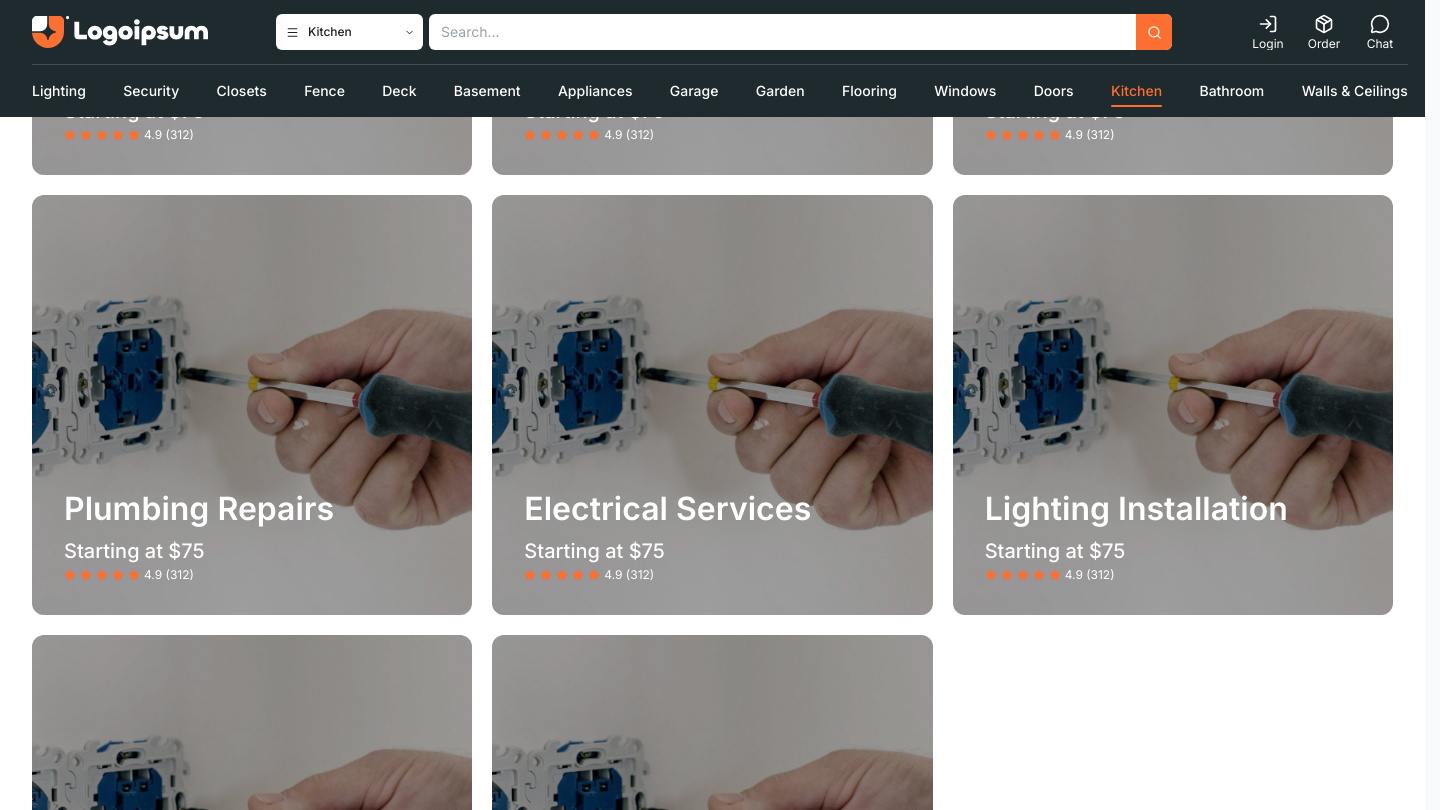
it: Kitchen page › opens child services when a subcategory card is clicked
(page scrolled)
Click the button "Lighting Installation".
click(1173, 405)  # box [953,195,1393,615]
(page scrolled)
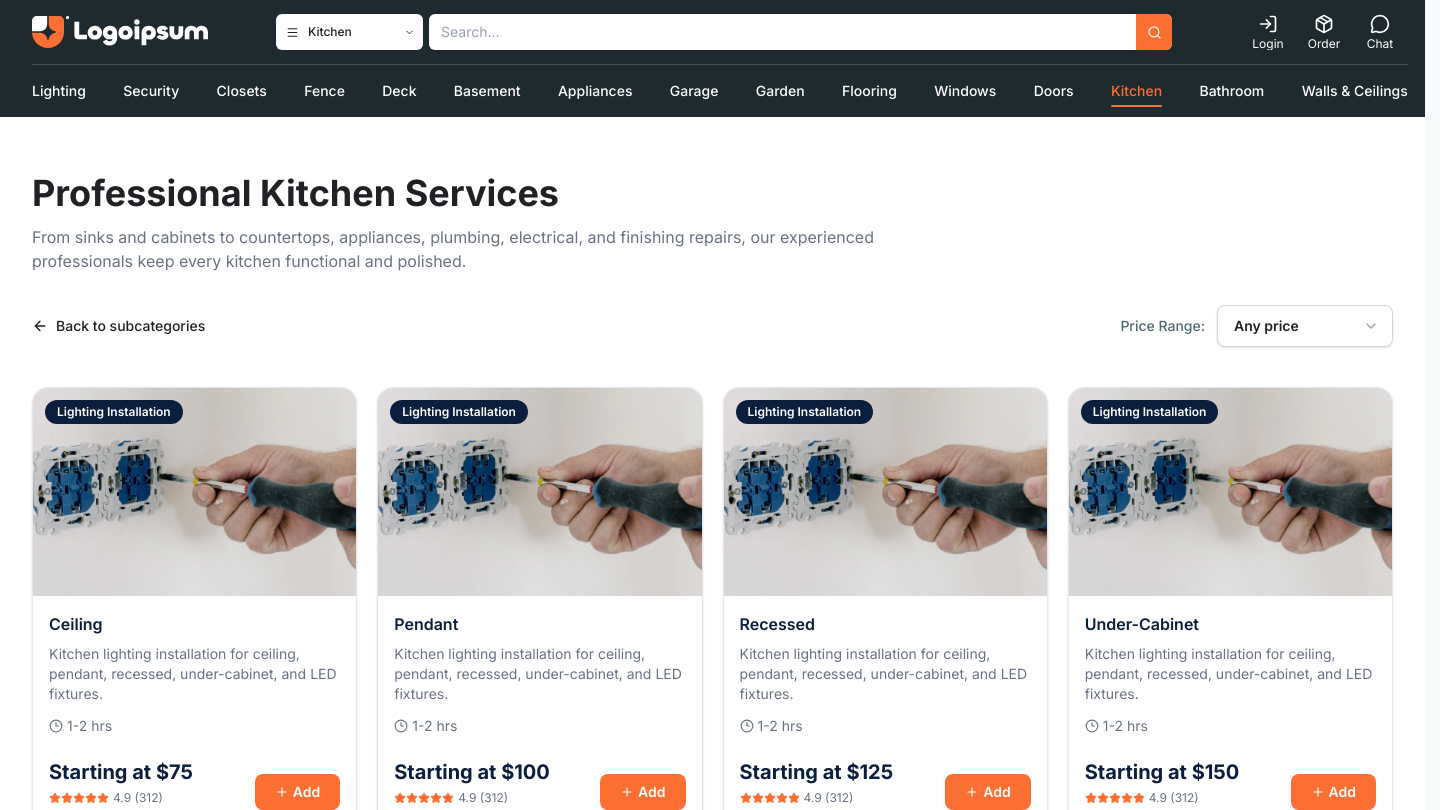
Expected: the heading "Recessed" is shown, [740,614,815,634]
Expected: the button "Back to subcategories" is shown, [32,316,205,336]
